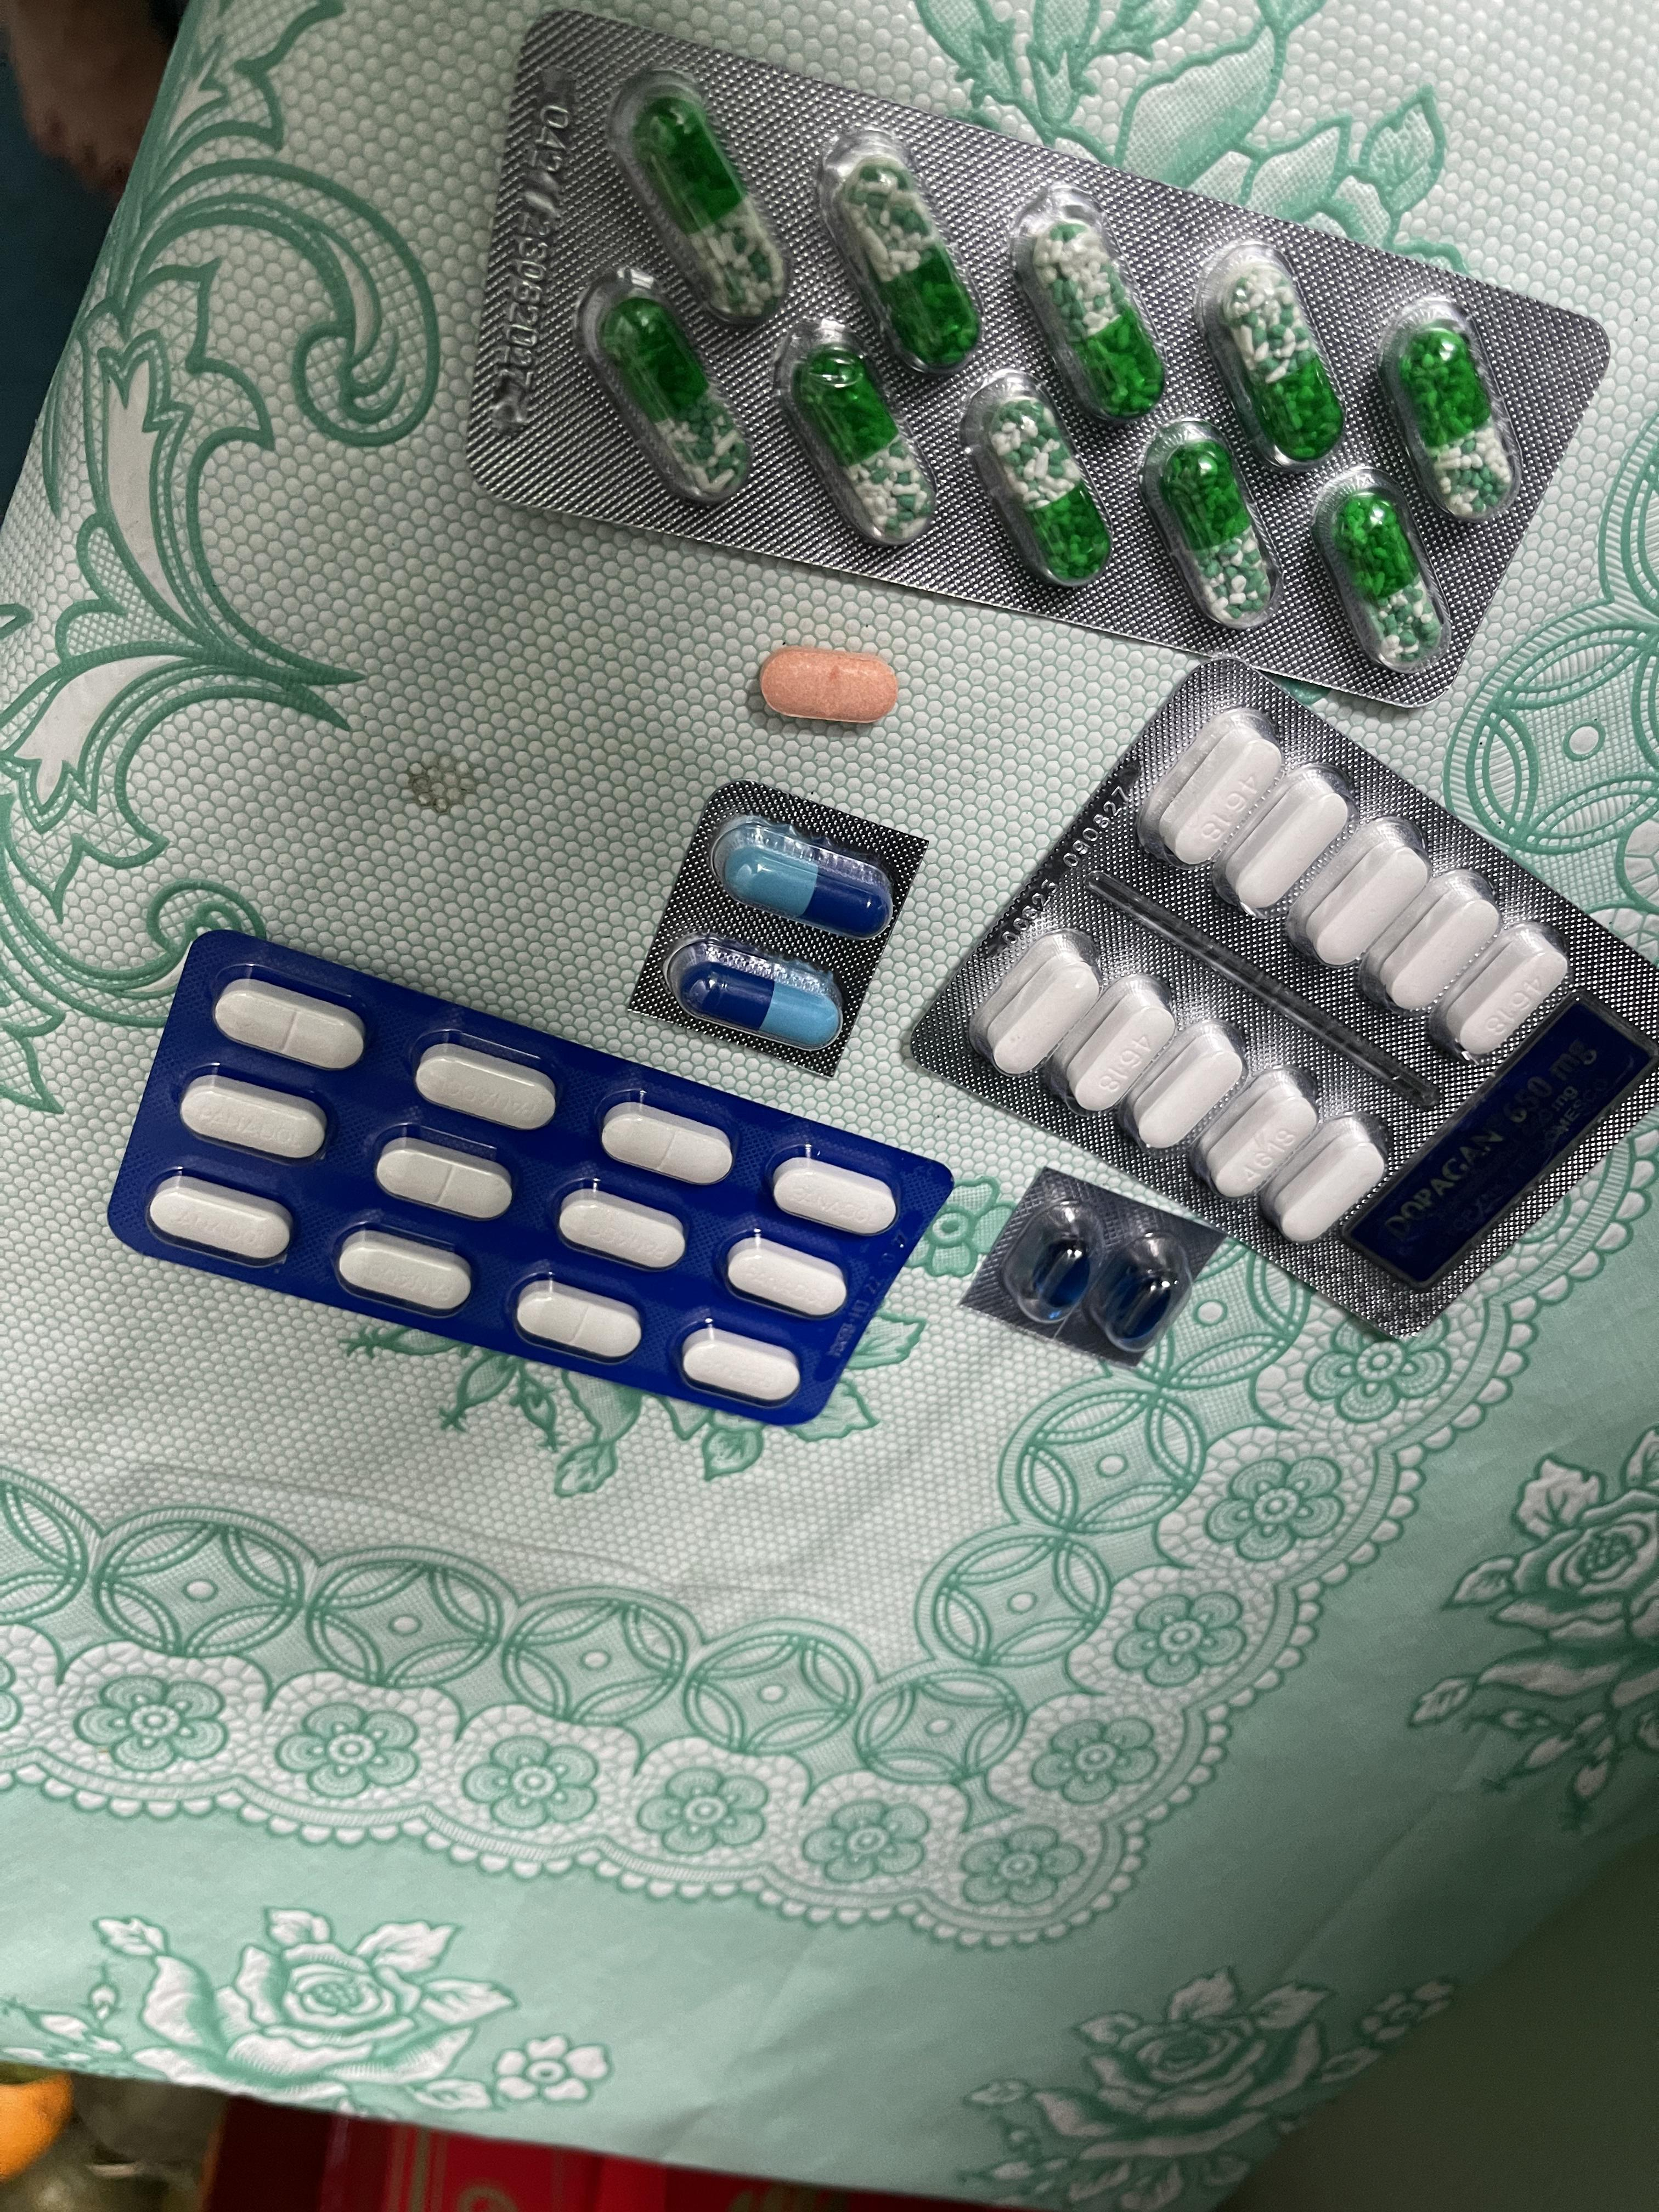Lincomyxin_500mg: (1032, 1238, 1094, 1315), (1108, 1270, 1175, 1341)
Loratadine_10mg: (758, 646, 901, 726)
Paracetamol_350mg: (214, 977, 366, 1068), (181, 1073, 329, 1163), (413, 1040, 559, 1130), (148, 1176, 293, 1266), (375, 1132, 512, 1219), (336, 1228, 472, 1315), (599, 1097, 734, 1183), (512, 1275, 643, 1362), (556, 1186, 688, 1271), (769, 1153, 897, 1238), (723, 1233, 849, 1318), (678, 1324, 803, 1406)
Paracetamol_500mg: (1145, 718, 1290, 878), (971, 932, 1110, 1080), (1297, 827, 1436, 972), (1371, 874, 1507, 1015), (1223, 775, 1354, 920), (1438, 925, 1568, 1059), (1056, 975, 1178, 1115), (1124, 1021, 1248, 1155), (1197, 1069, 1321, 1200), (1267, 1120, 1391, 1242)
Paracetamol_650mg: (577, 270, 749, 509), (634, 91, 786, 317), (793, 345, 934, 545), (842, 160, 976, 364), (1023, 216, 1161, 411), (1218, 265, 1342, 456), (1398, 329, 1514, 517), (983, 399, 1103, 580), (1155, 442, 1270, 624), (1330, 491, 1439, 665)
pill: (664, 934, 847, 1049), (721, 826, 894, 937)
